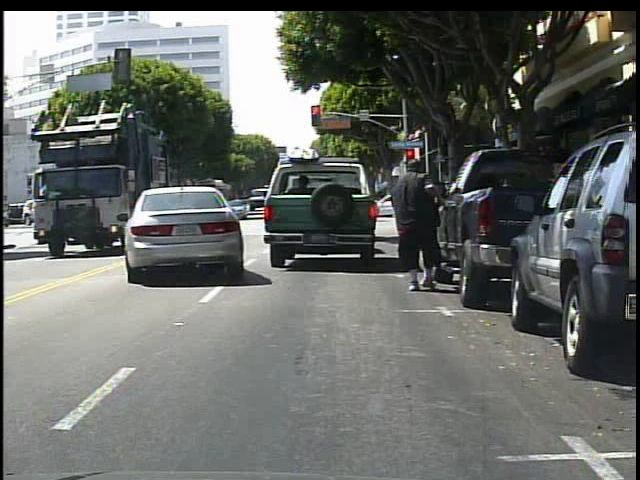person: (393, 158, 449, 294)
